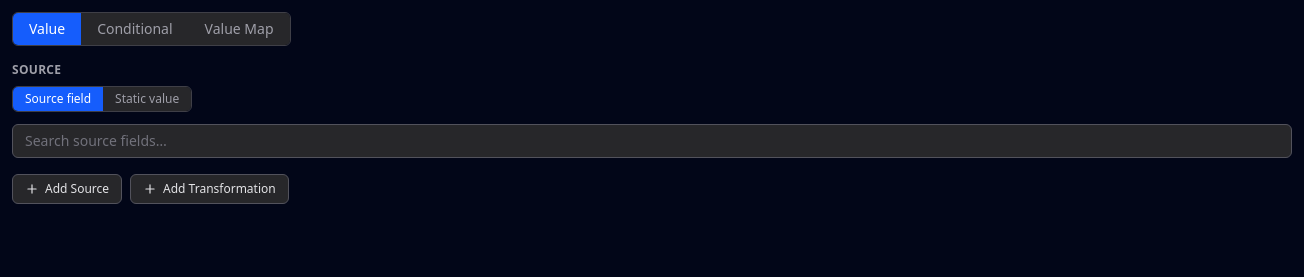
Test: UnifiedExpressionBuilder — source chip picker › shows suggestions when search input is focused
The image size is (1304, 277).
Click the dropdown with test id "source-search-input".
click(652, 141)  # box x1=12 y1=124 x2=1292 y2=158
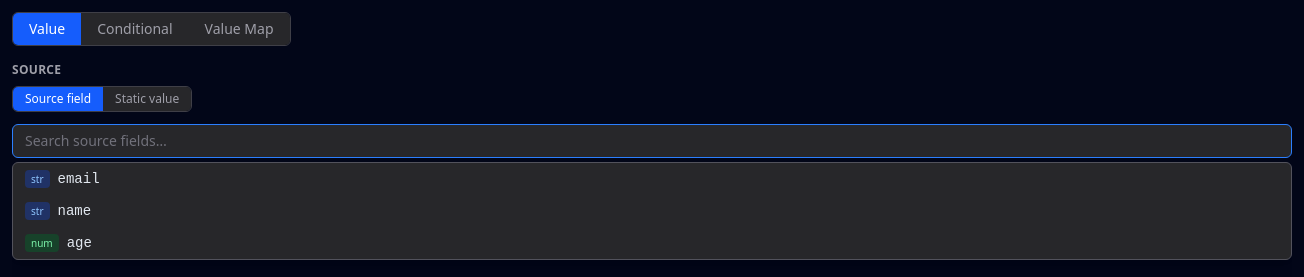
Expected: the list with test id "source-suggestions" is shown, x1=12 y1=162 x2=1292 y2=260
